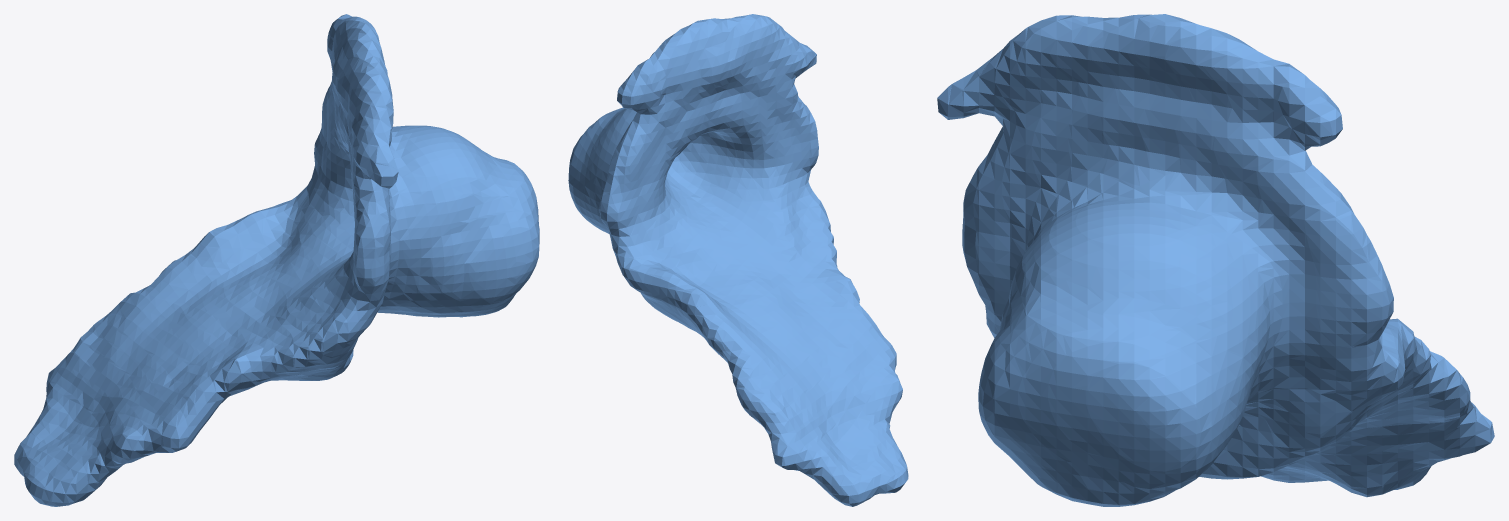
Rendered from water_0027.glb.
The picture shows the model from 3 angles, left to right: view 1: azimuth 30°, elevation 25°; view 2: azimuth 150°, elevation 25°; view 3: azimuth 270°, elevation 25°; orthographic projection. The views are drawn at different scales.
Parts seen in each view (by area): view 1: Water_0027; view 2: Water_0027; view 3: Water_0027.
Boxes of the visible parts, box(x1,y1,x2,y2) form: Water_0027: box(14, 14, 539, 506); Water_0027: box(568, 14, 908, 506); Water_0027: box(937, 14, 1494, 506).
Bounding box in the file's own units: 2.79 × 2.71 × 2.1.
